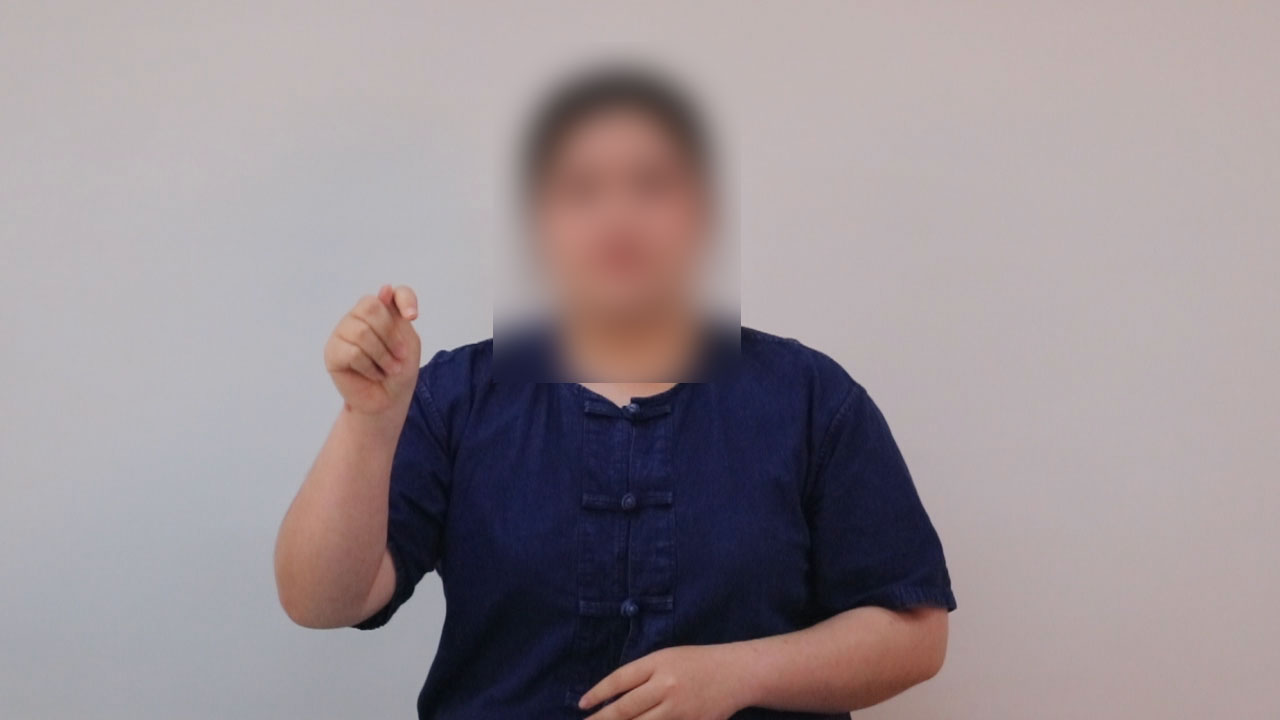tor: (308, 271, 460, 428)
